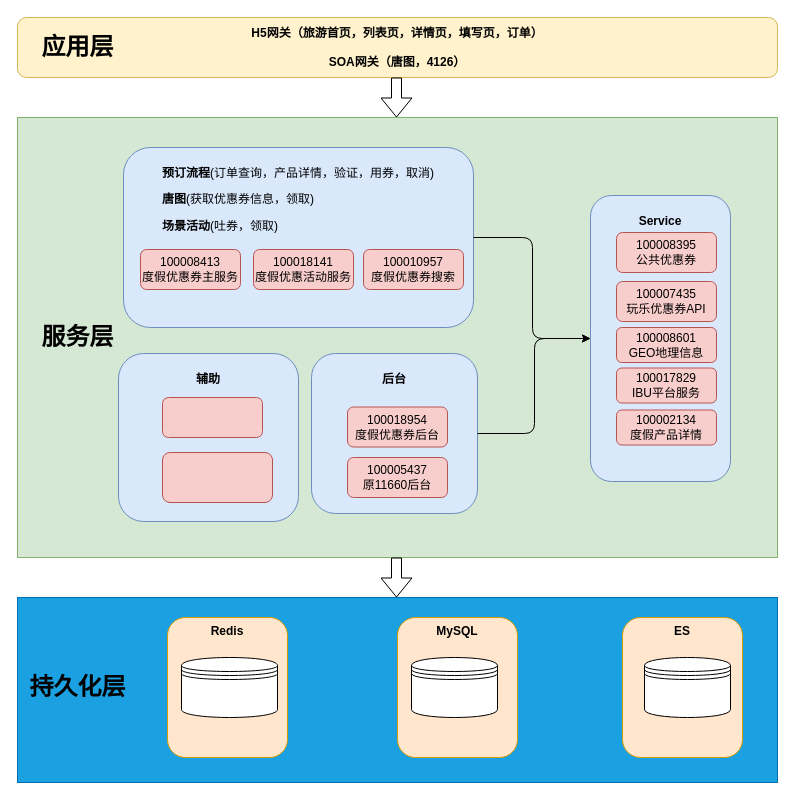
This 795x800 diagram has some shape labels left out. The shapes that lost their labels are listed below. From the top down, each one's centre as x and y in pixels, then its label:
point (212, 417): 100013791 优惠券数据同步Job服务
point (217, 477): 100019911 度假优惠券埋点处理服务
point (229, 687): tour_product_info
point (454, 687): PkgCouponDB
point (687, 687): tour.coupon
